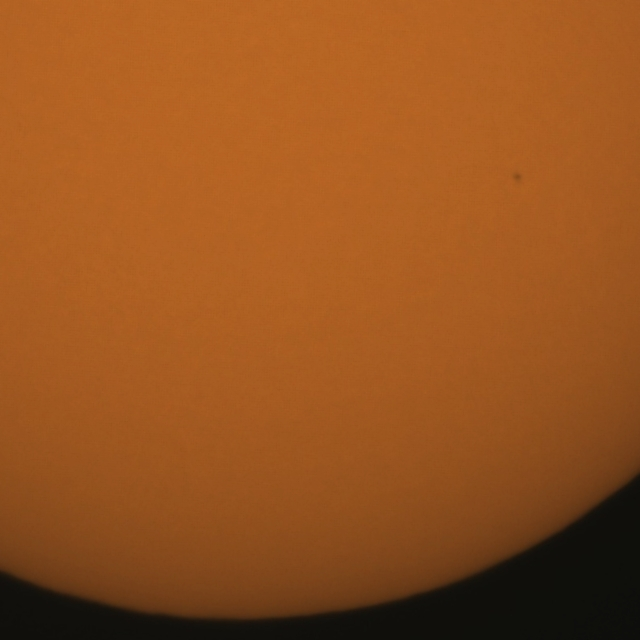sunspot: (511, 171, 524, 186)
